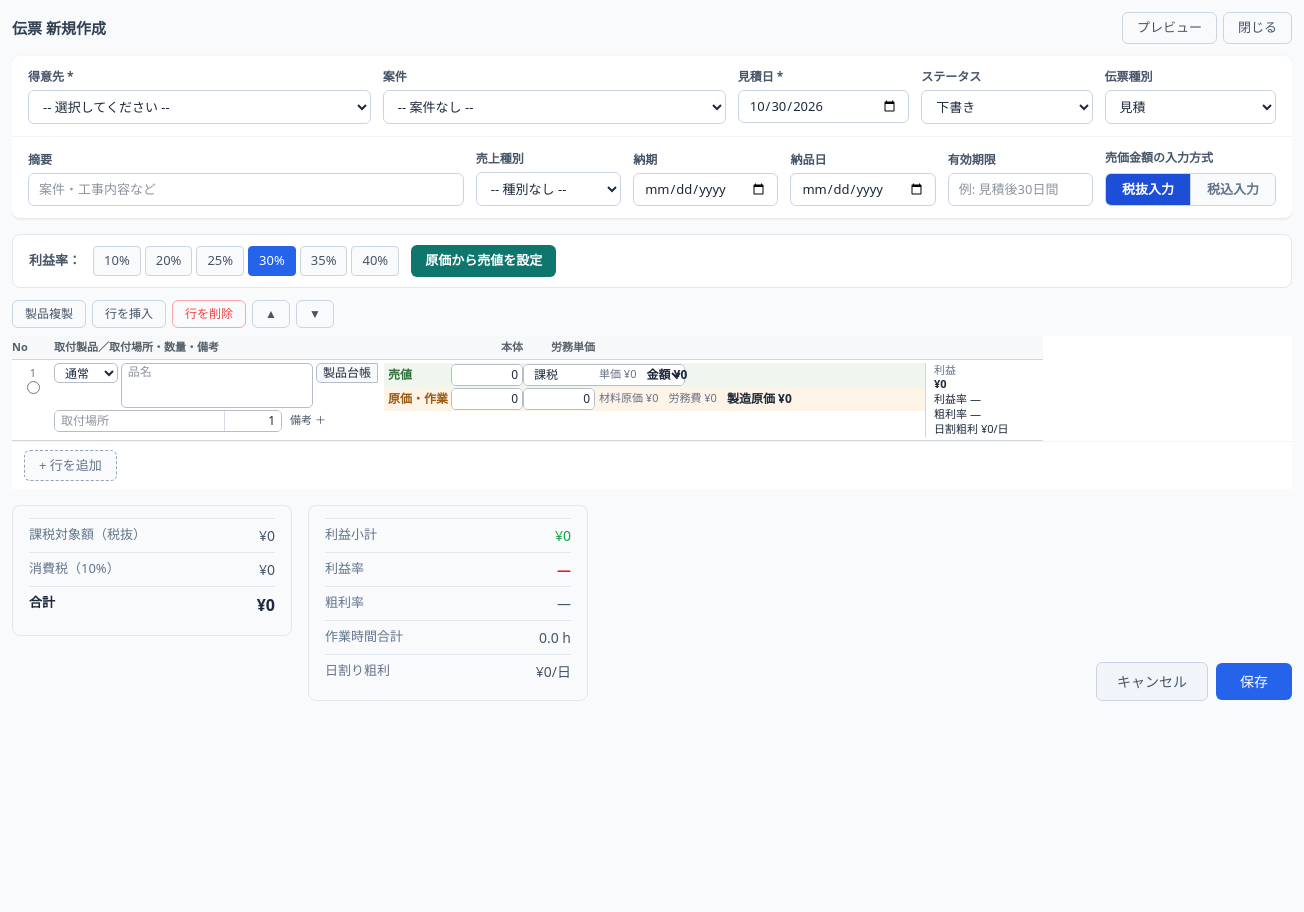
VoucherEdit R-0119 › 新規伝票の明細保存に失敗したら遷移せずエラーを表示する
Select "得意先A" in the dropdown named "customer_id" below "得意先 *" at (199, 106), box [28,90,371,124]
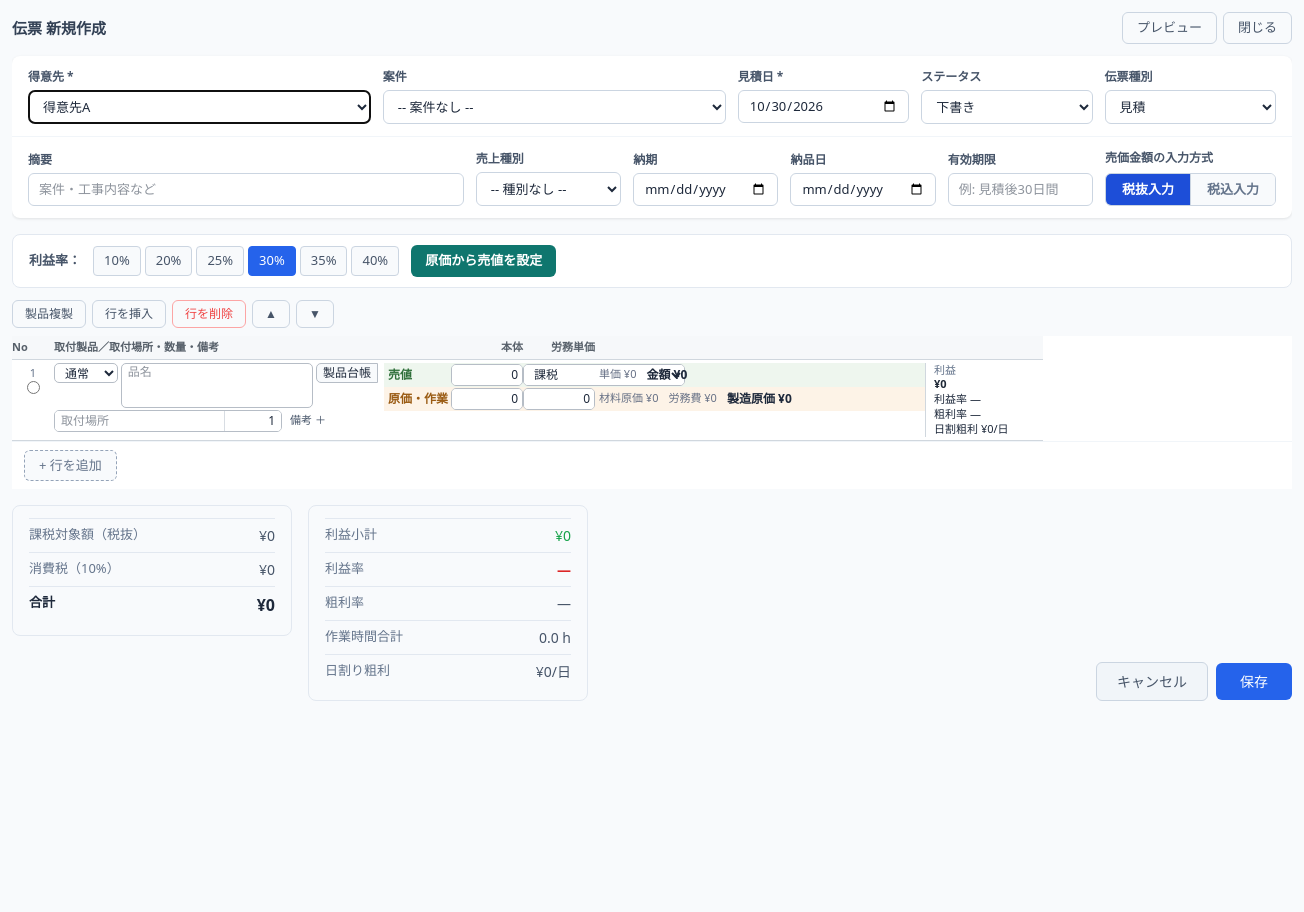
Click the button "保存" at (1254, 682), box [1216,663,1292,700]
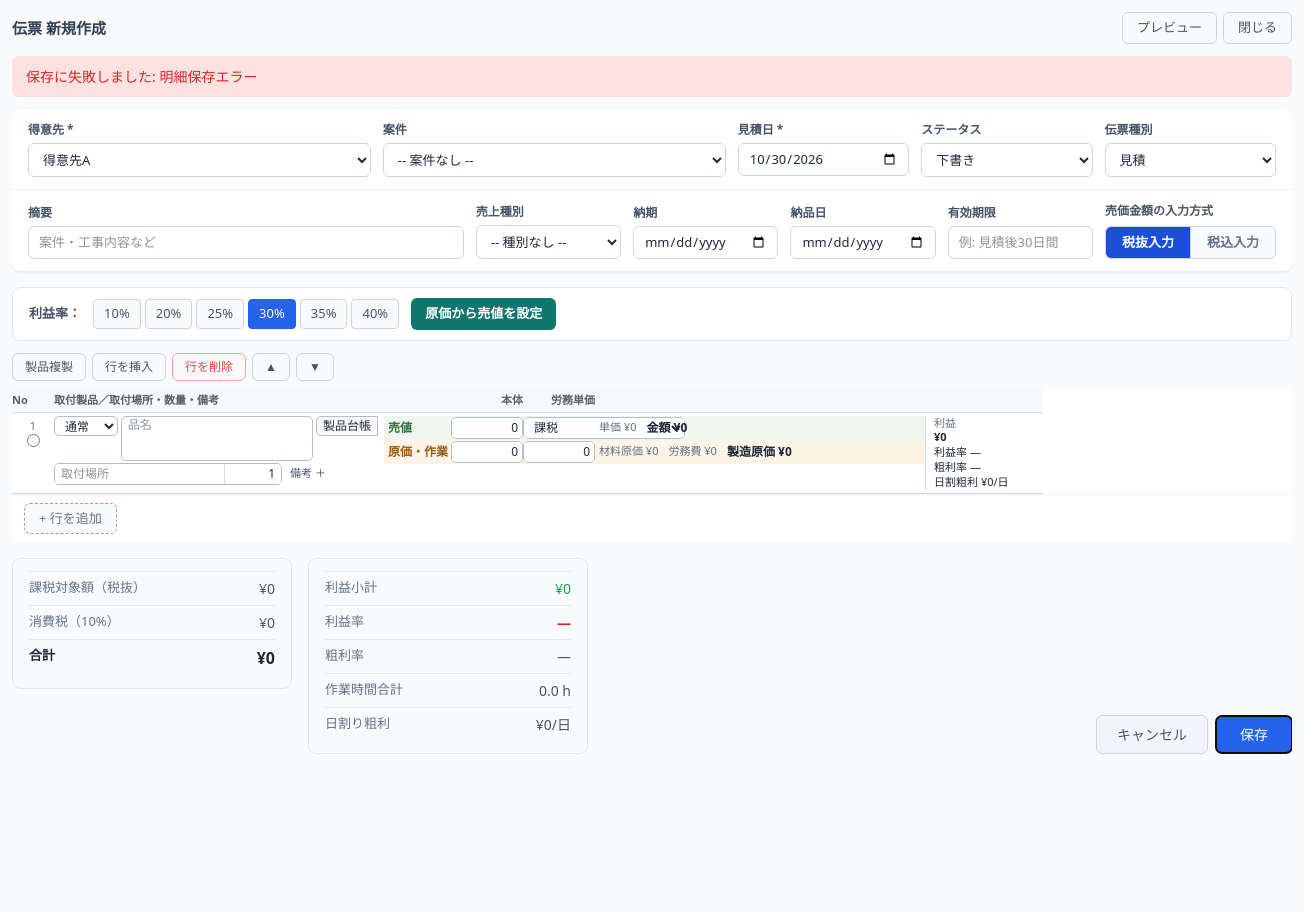
Expected: the text "保存に失敗しました: 明細保存エラー" is shown, [12,56,1292,96]
